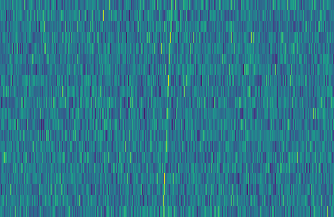signal: (157, 0, 176, 217)
